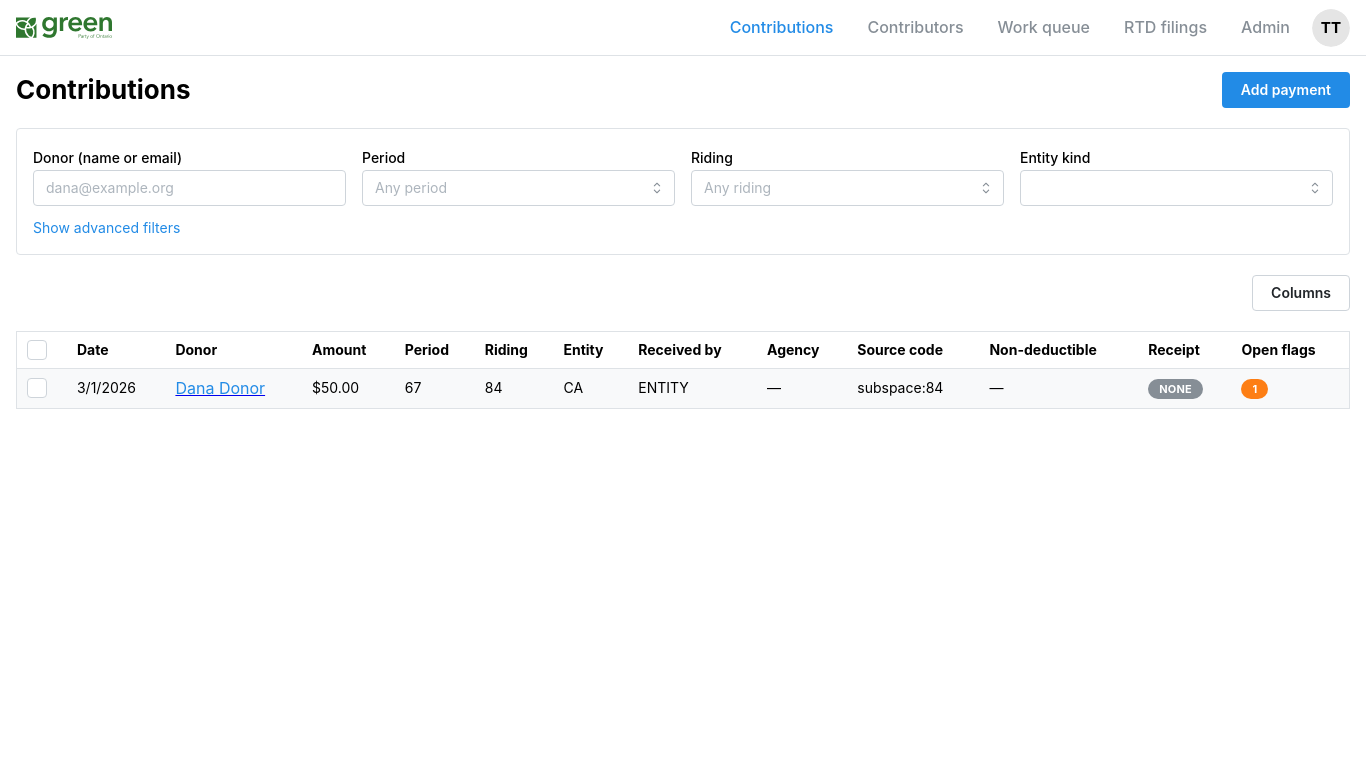
Test case: bulk edit: selecting a row shows the bar, and applying it posts to bulk-edit
Check: the text "Dana Donor" is shown, box 175,378 -> 265,398
Click the checkbox named "Select Dana Donor": click(37, 388) 27,378 -> 47,398
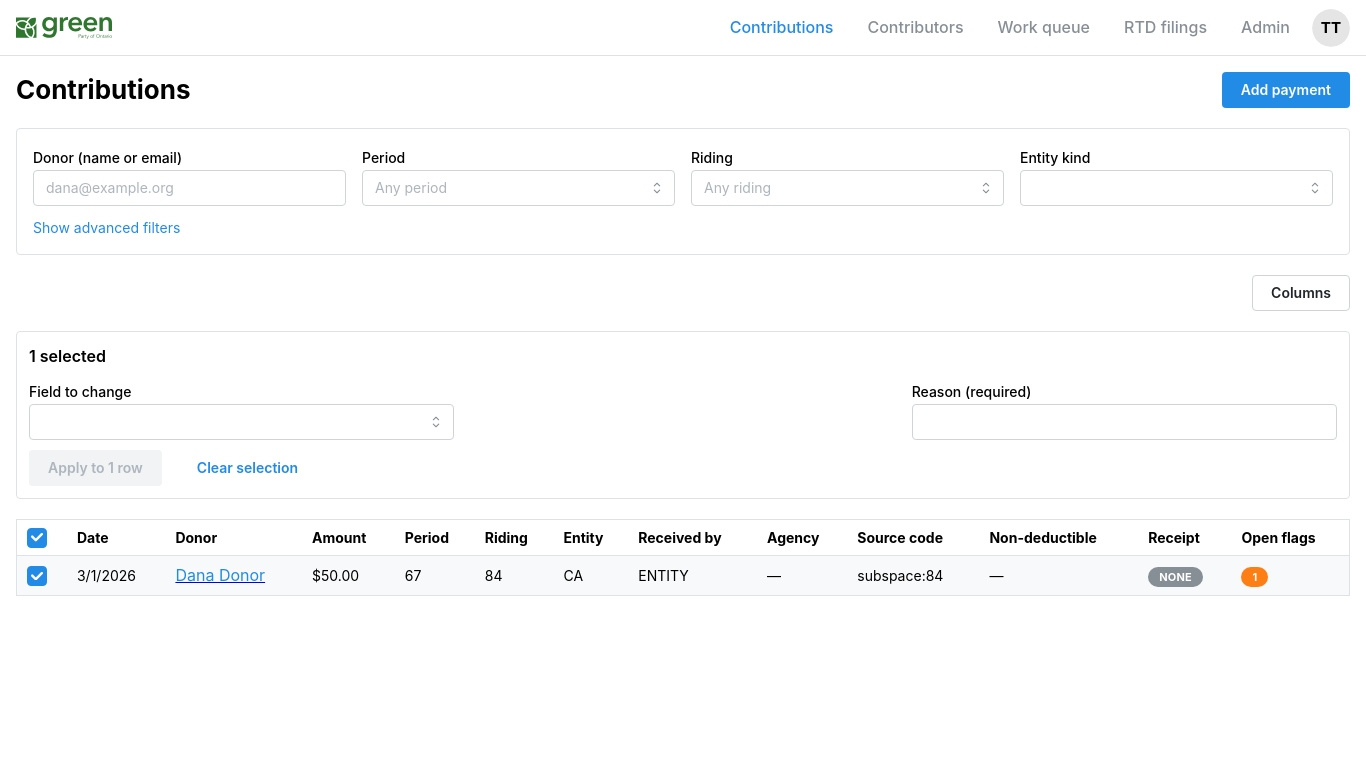
Check: the text "1 selected" is shown, box 29,346 -> 106,366
Select "Period id" in the dropdown labelled "Field to change": (242, 422) 29,404 -> 454,440
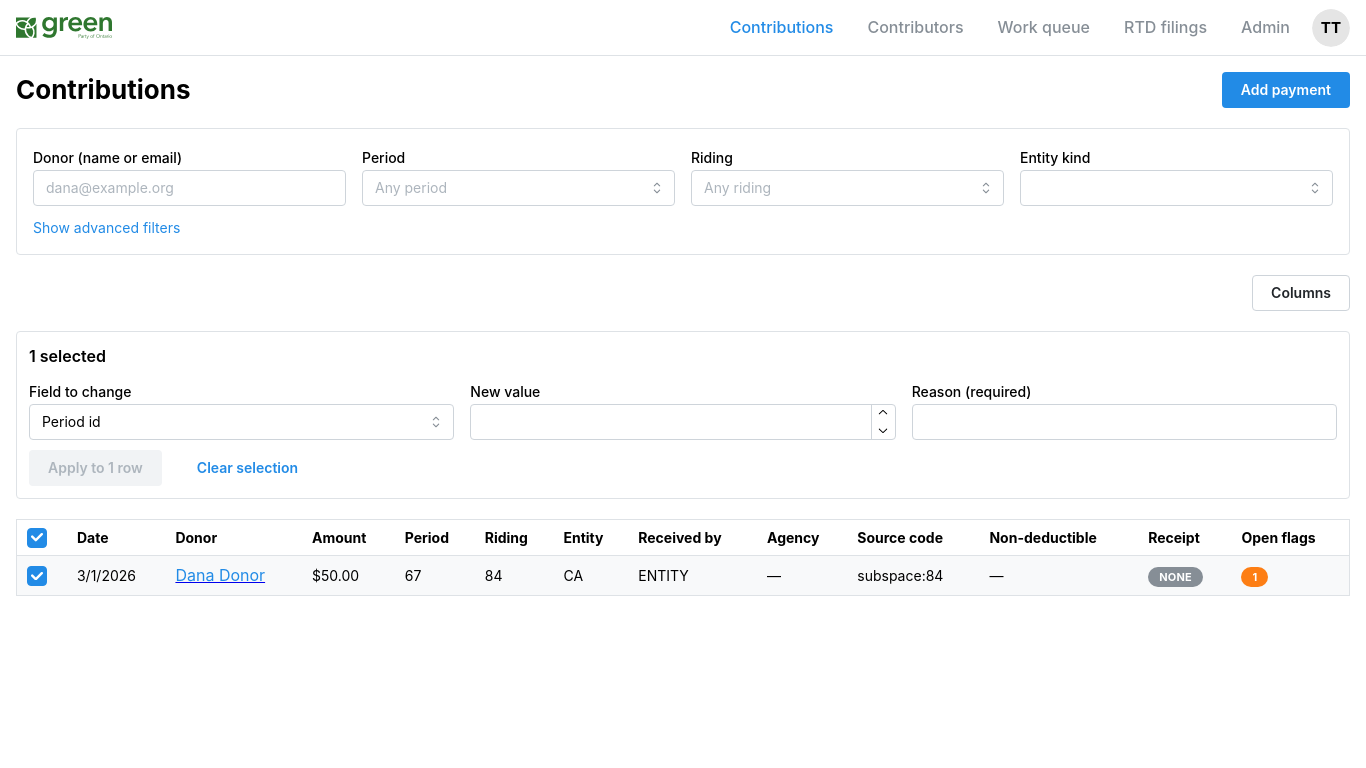
In the field labelled "New value": (683, 422) 470,404 -> 896,440, type "67"
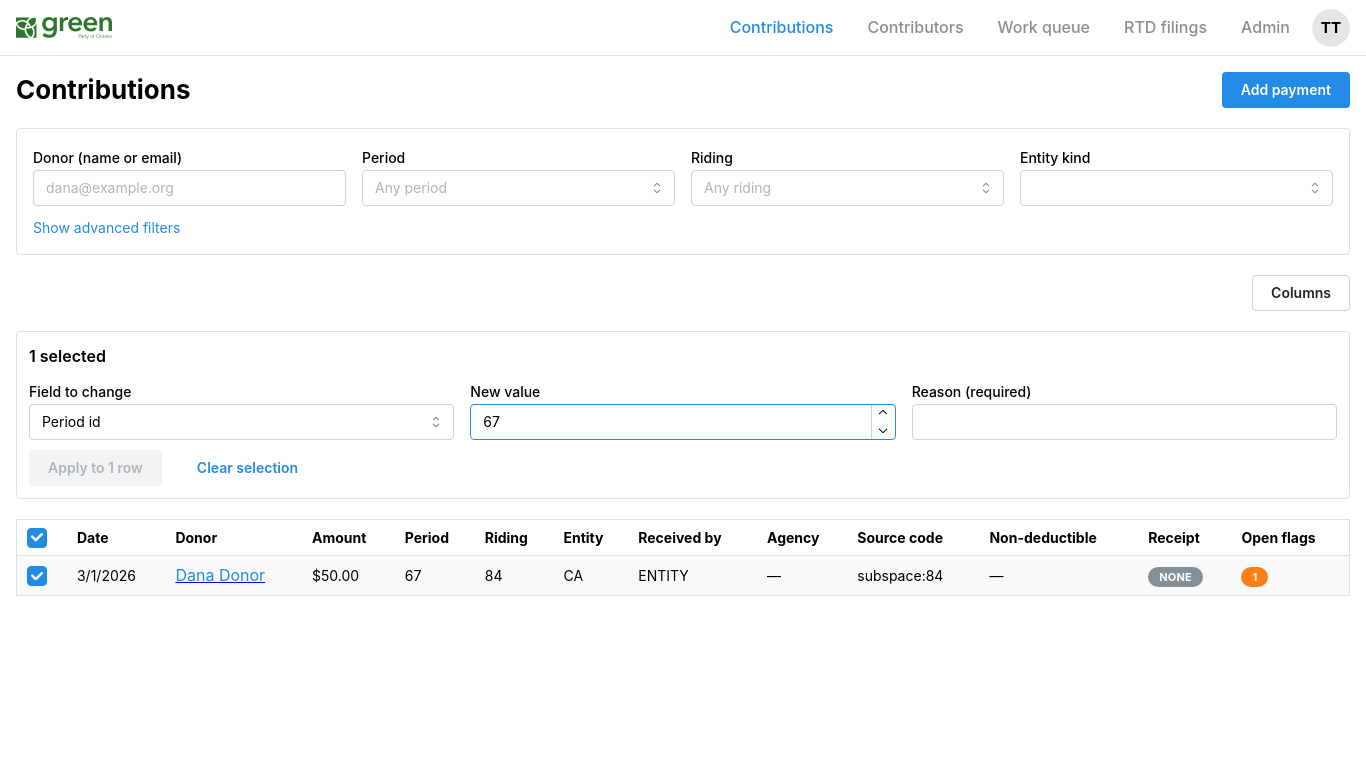
In the field labelled "Reason (required)": (1124, 422) 912,404 -> 1337,440, type "reassign period"
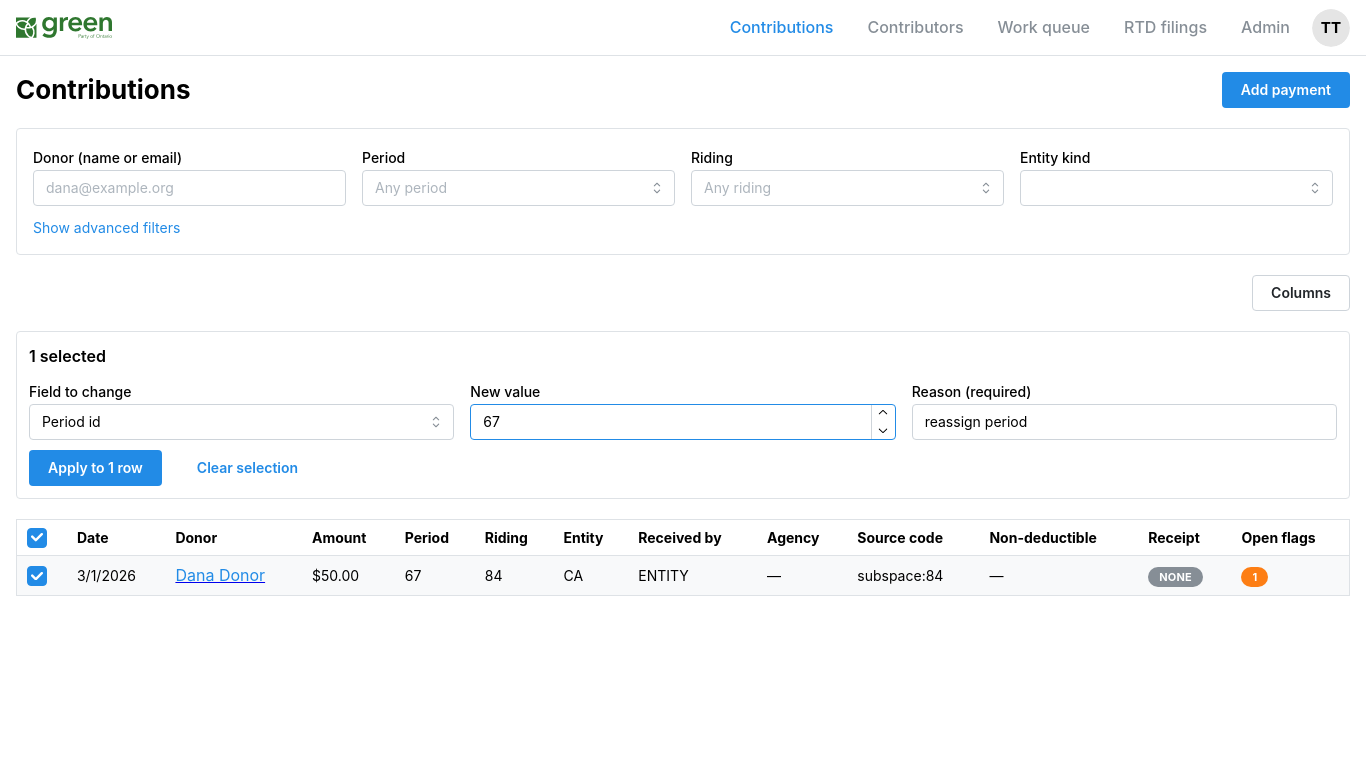
Click the button "Apply to 1 row": click(95, 468) 29,450 -> 162,486
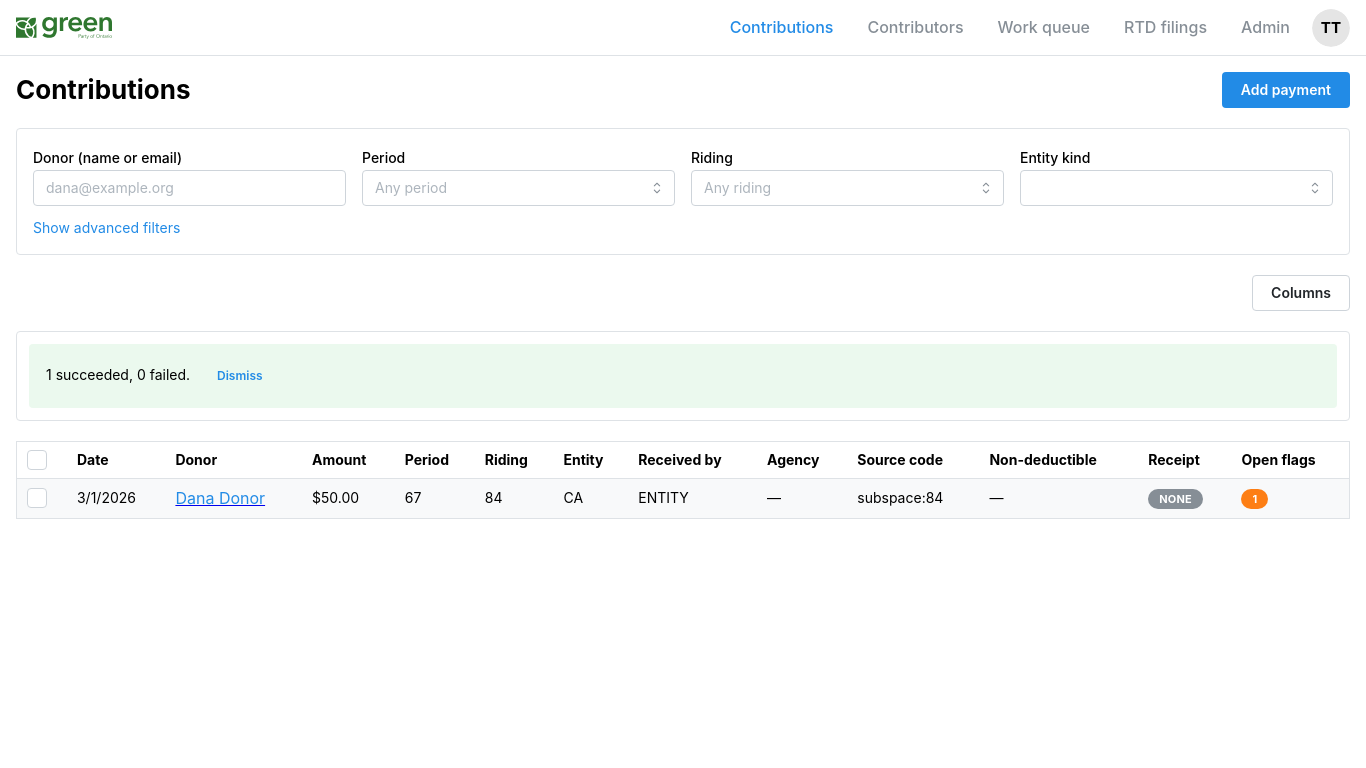
Check: the text "1 succeeded, 0 failed. Dismiss" is shown, box 46,361 -> 278,391
